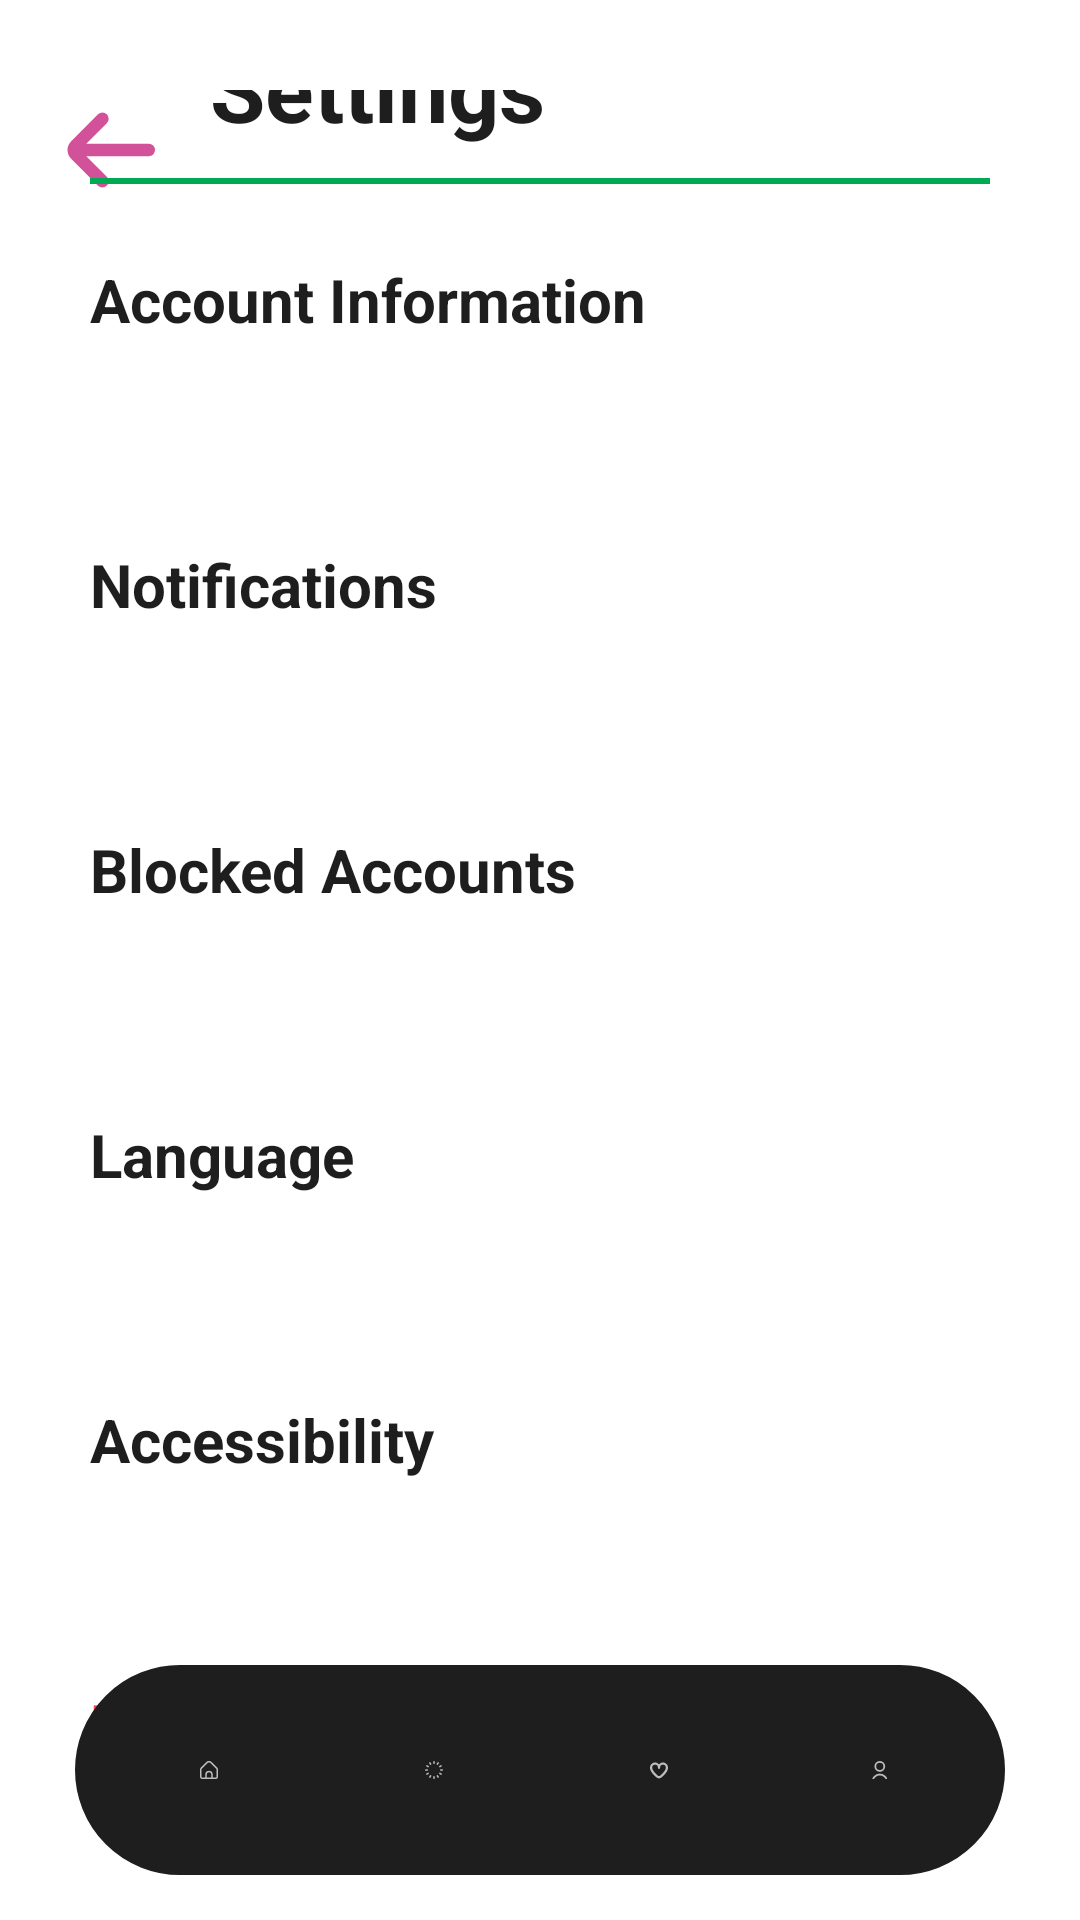

Screen size 1080x1920. Icon name, then its box in pixels as (x1, y1, x2, y2):
Back: (67, 112, 210, 188)
